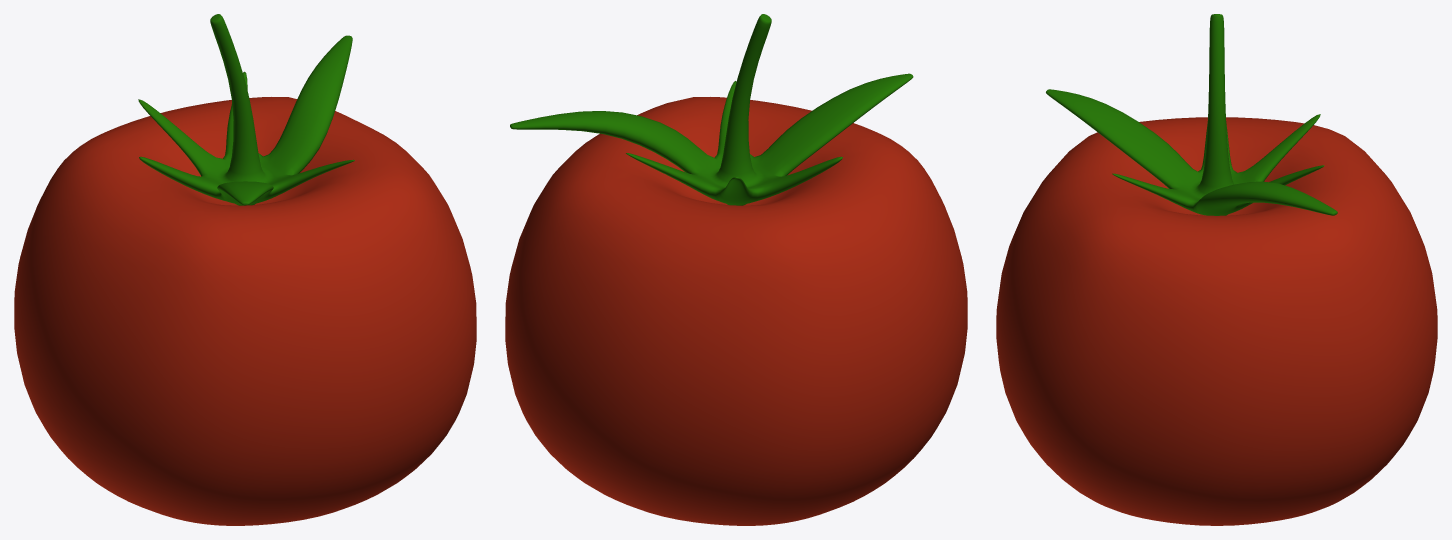
Rendered from Tomato.fbx.
3 views of the same model, side by side, from view 1: azimuth 30°, elevation 25°; view 2: azimuth 150°, elevation 25°; view 3: azimuth 270°, elevation 25° (orthographic). The views are drawn at different scales.
Visible parts, largest first — view 1: Cube.001, Cylinder; view 2: Cube.001, Cylinder; view 3: Cube.001, Cylinder.
Boxes of the visible parts, x1,y1,x2,y2 form: Cube.001: [14, 97, 476, 525]; Cylinder: [138, 14, 354, 205]; Cube.001: [505, 97, 967, 525]; Cylinder: [510, 14, 913, 205]; Cube.001: [996, 117, 1437, 525]; Cylinder: [1046, 14, 1337, 215].
Size of the model in its own units: 342 by 342 by 393.
